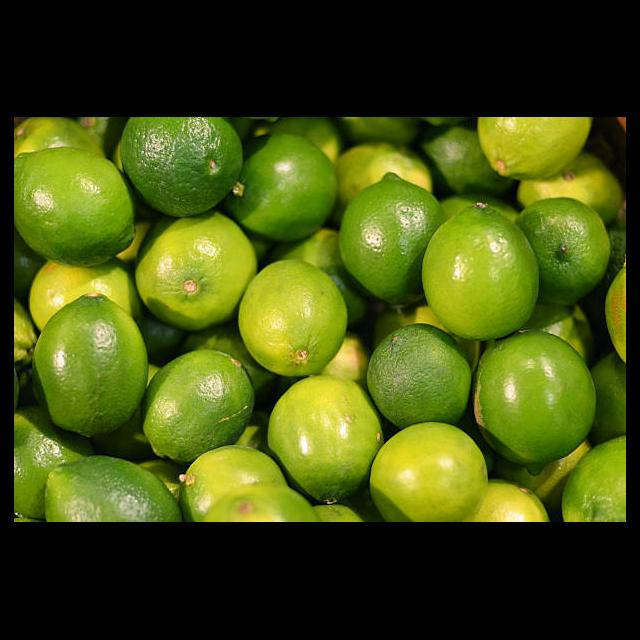lime: (472, 332, 597, 474), (421, 204, 540, 342), (14, 148, 137, 268), (236, 260, 350, 378), (369, 424, 489, 522)
